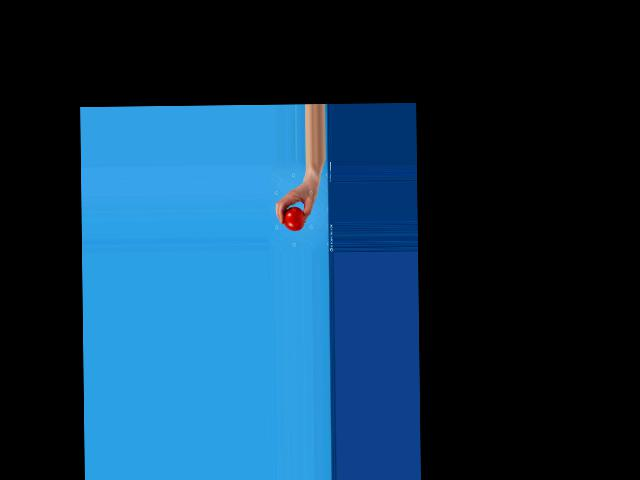tomato: (283, 206, 304, 230)
